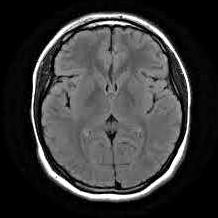Normal_Brain: (12, 1, 199, 217)
